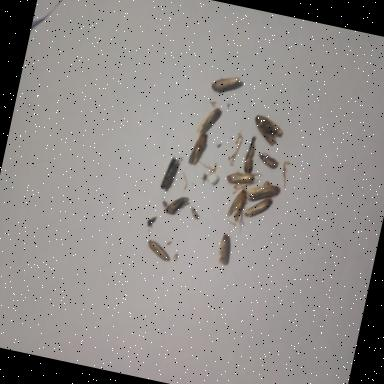pbw: (249, 113, 286, 148), (245, 178, 282, 210), (194, 104, 222, 140), (244, 195, 274, 224), (226, 186, 248, 224), (210, 72, 240, 99), (187, 132, 209, 168), (160, 155, 180, 192), (226, 170, 262, 190), (164, 194, 190, 219), (145, 239, 173, 262), (216, 234, 234, 268)
